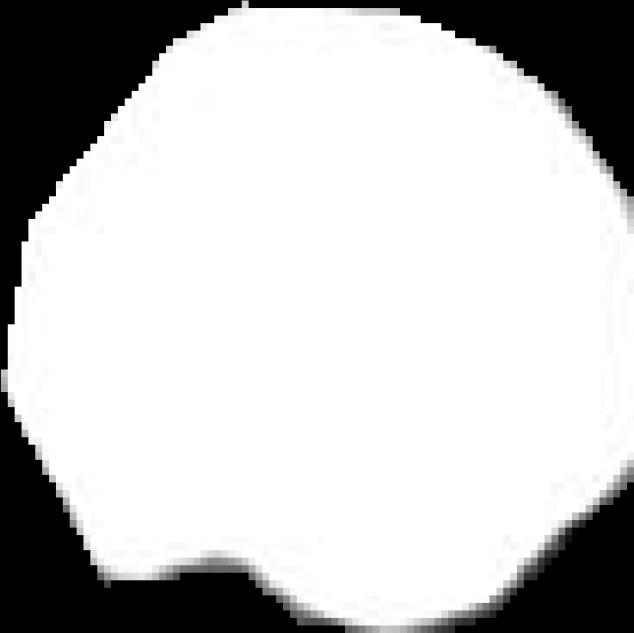tumor_moderate_chance: (1, 1, 634, 633)
